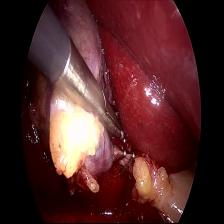Grasper: (100, 87, 124, 145)
